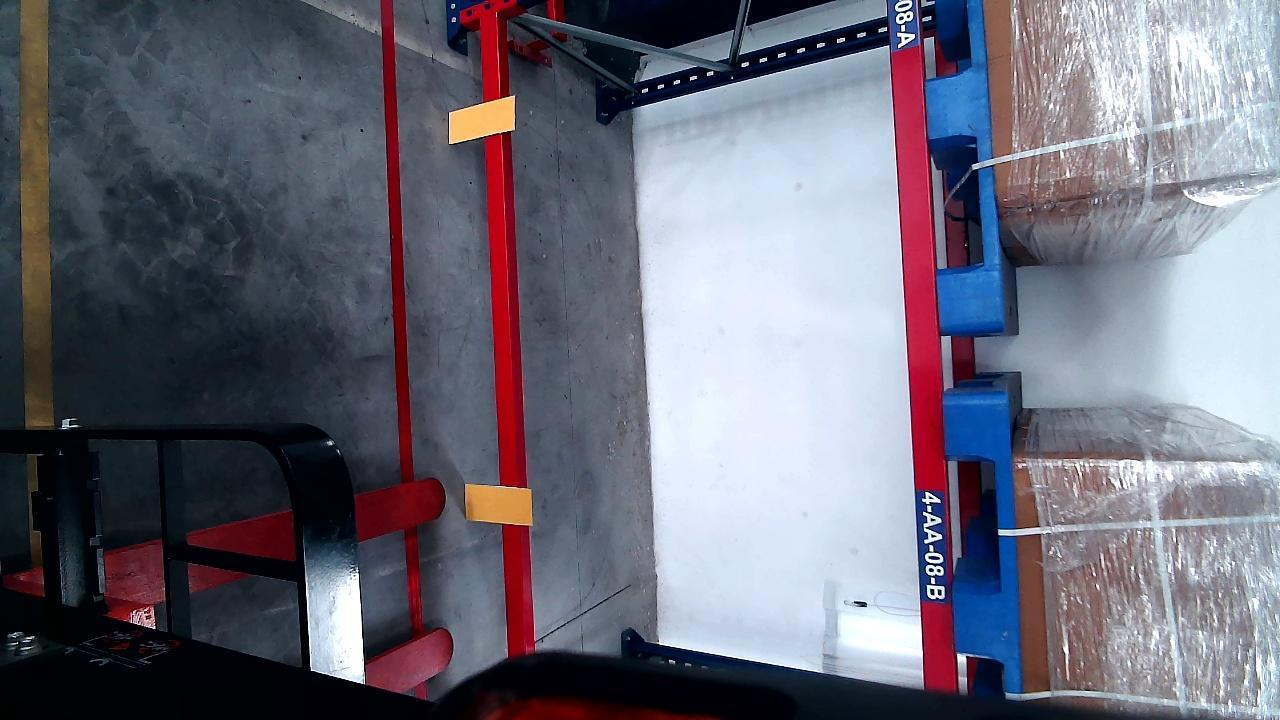h_rack: (885, 0, 952, 693), (479, 7, 530, 656)
orange_strip: (448, 95, 515, 143), (464, 484, 532, 526)
red_line: (381, 1, 417, 473)
small_pallet: (918, 0, 1004, 330), (947, 393, 1021, 696)
yellow_line: (20, 0, 55, 432)
